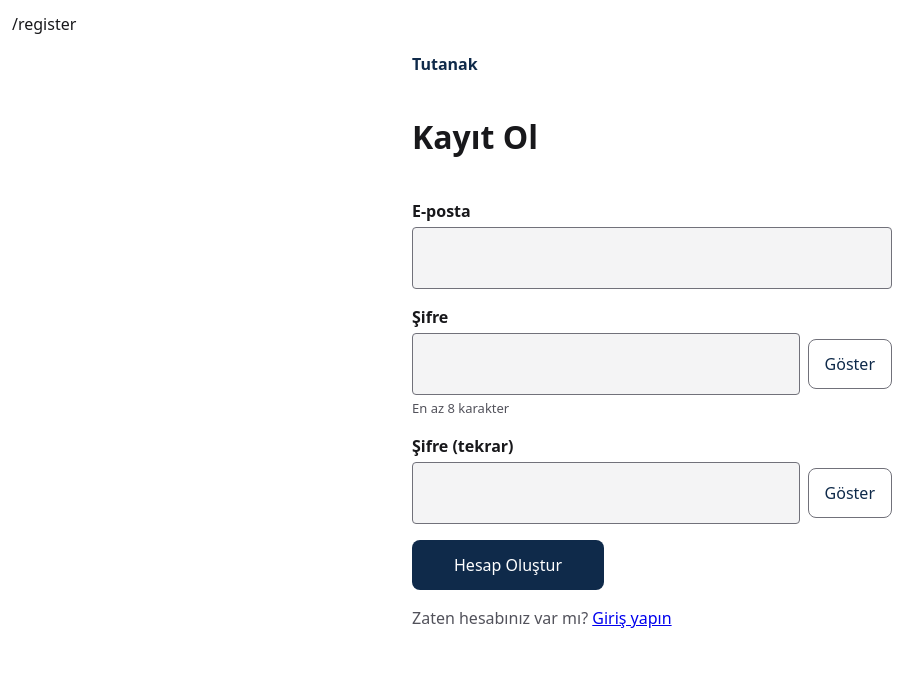
Test: RegisterPage › sifre tekrari yalnizca istemcide dogrulanir (kriter 6) › şifreler eşleşmiyorsa istek GONDERMEZ ve alan bazli hata gosterir
This screenshot has width=913, height=673.
Type "selin@ornek.com" into the field labelled "E-posta" at (652, 258), box x1=412 y1=227 x2=892 y2=289
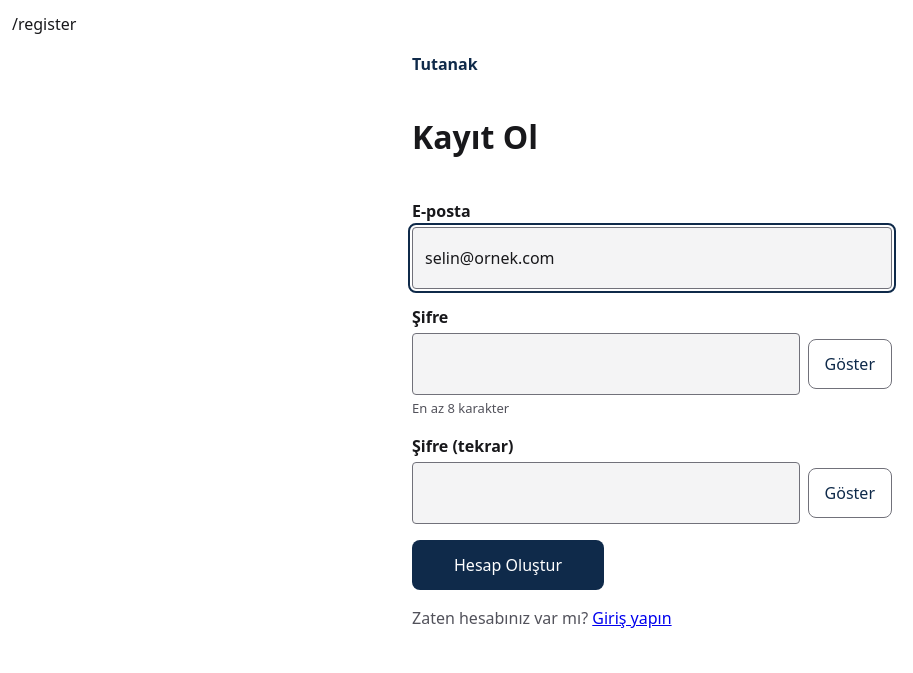
Type "cok-gizli-8" into the password field labelled "Şifre" at (606, 364), box x1=412 y1=333 x2=800 y2=395
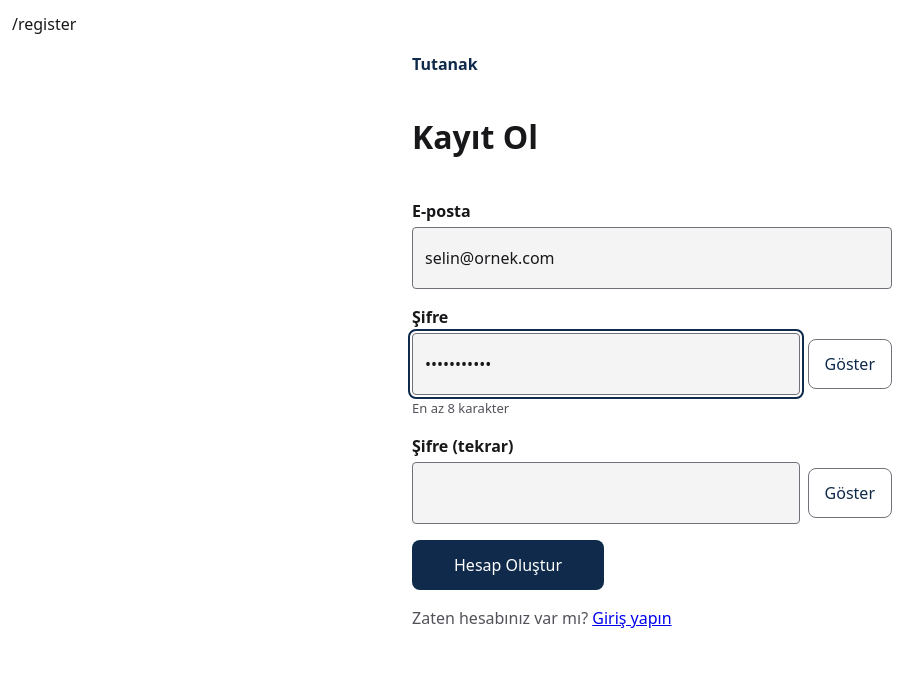
Type "baska-sifre-9" into the password field labelled "Şifre (tekrar)" at (606, 493), box x1=412 y1=462 x2=800 y2=524
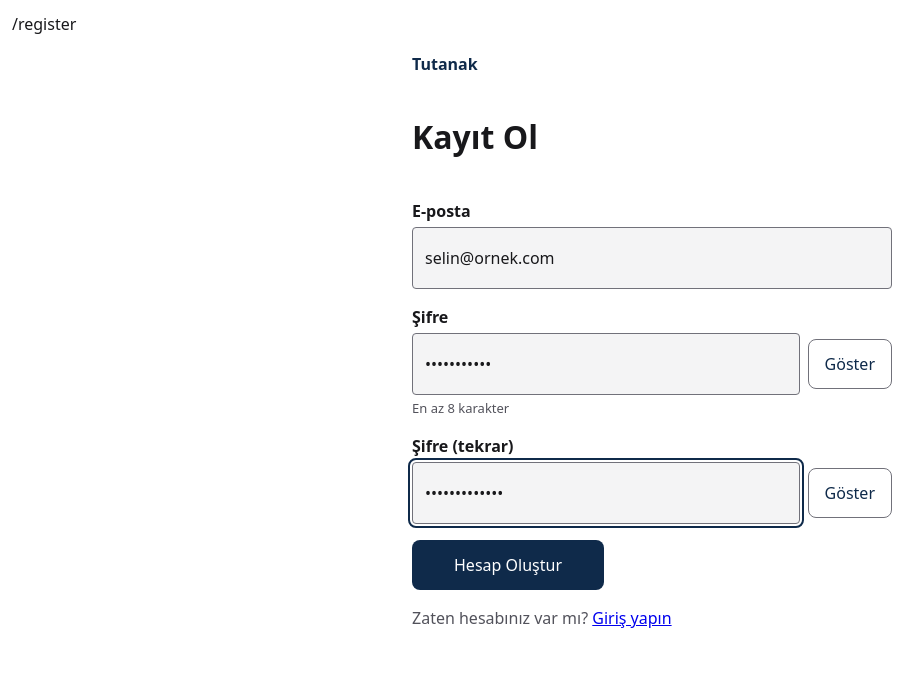
Click the button "Hesap Oluştur" at (508, 565), box x1=412 y1=540 x2=604 y2=590
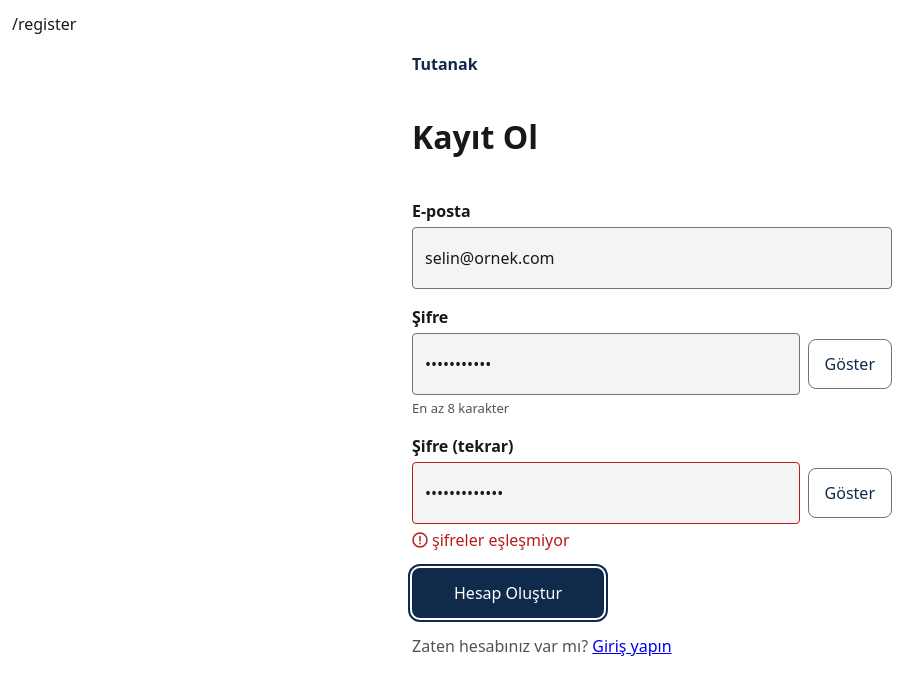
Result: the text "şifreler eşleşmiyor" is shown at x1=412 y1=529 x2=570 y2=551
